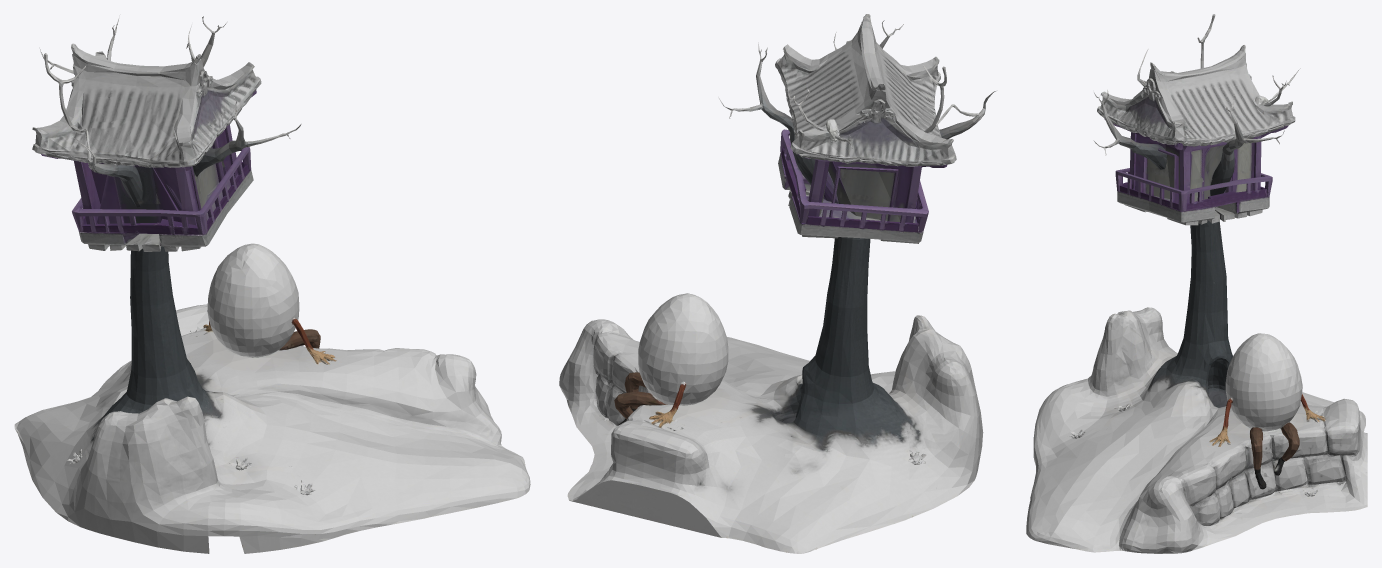
The model's file is life.glb.
3 renders of one model, left to right at view 1: azimuth 30°, elevation 25°; view 2: azimuth 150°, elevation 25°; view 3: azimuth 270°, elevation 25°, orthographic. The views are drawn at different scales.
Visible parts, largest first — view 1: tripo_node_d4c3674e-2089-4c7e-baf0-9b2029850f65; view 2: tripo_node_d4c3674e-2089-4c7e-baf0-9b2029850f65; view 3: tripo_node_d4c3674e-2089-4c7e-baf0-9b2029850f65.
Part boxes in pixels (left/top/right/bottom): tripo_node_d4c3674e-2089-4c7e-baf0-9b2029850f65: left=14, top=16, right=530, bottom=553; tripo_node_d4c3674e-2089-4c7e-baf0-9b2029850f65: left=559, top=14, right=995, bottom=553; tripo_node_d4c3674e-2089-4c7e-baf0-9b2029850f65: left=1026, top=14, right=1367, bottom=553.
Size of the model in its own units: 0.998 by 0.9941 by 0.8223.
Materials: 1 (1 with a texture image).
